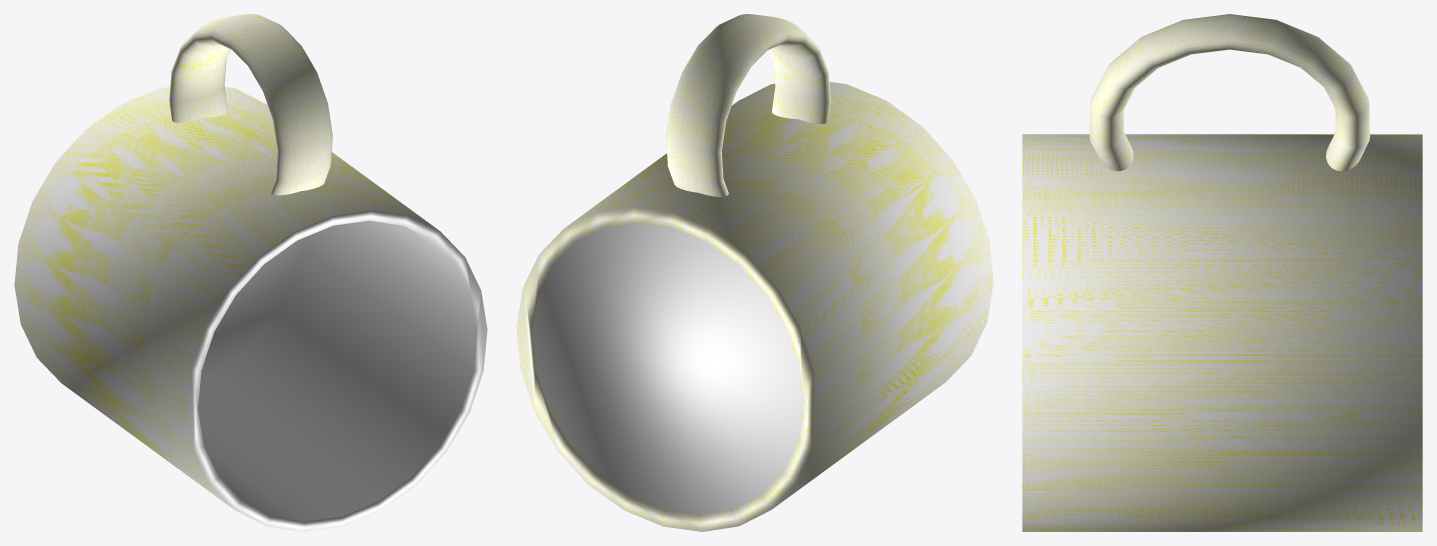
The model's file is model_align.obj.
3 views of the same model, side by side, from view 1: azimuth 30°, elevation 25°; view 2: azimuth 150°, elevation 25°; view 3: azimuth 270°, elevation 25° (orthographic). The views are drawn at different scales.
Parts seen in each view (by area): view 1: mesh1_mesh1-geometry, mesh2_mesh2-geometry; view 2: mesh1_mesh1-geometry, mesh2_mesh2-geometry; view 3: mesh1_mesh1-geometry, mesh2_mesh2-geometry.
Part boxes in pixels (bbox=[...]): mesh1_mesh1-geometry: bbox=[14, 87, 487, 531]; mesh2_mesh2-geometry: bbox=[169, 14, 332, 195]; mesh1_mesh1-geometry: bbox=[516, 82, 993, 531]; mesh2_mesh2-geometry: bbox=[666, 14, 830, 196]; mesh1_mesh1-geometry: bbox=[1022, 134, 1422, 531]; mesh2_mesh2-geometry: bbox=[1089, 14, 1369, 171].
Size of the model in its own units: 0.0801 by 0.1106 by 0.0801.
